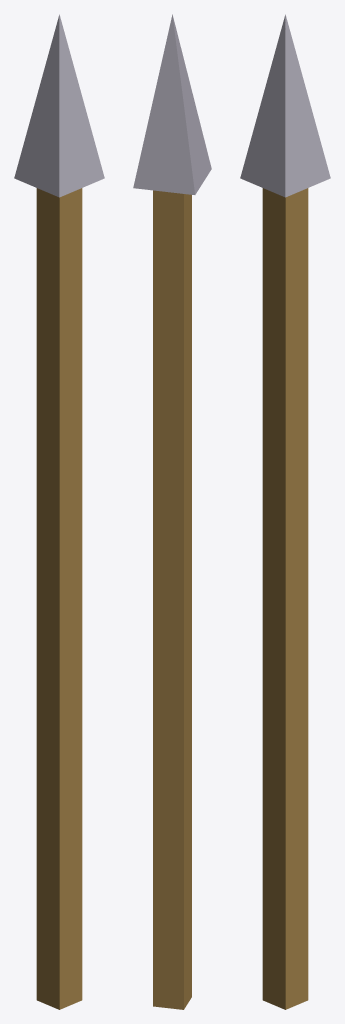
File: stone_arrow.dae
3 views of the same model, side by side, from view 1: azimuth 90°, elevation 25°; view 2: azimuth 210°, elevation 25°; view 3: azimuth 270°, elevation 25° (orthographic).
Visible parts, largest first — view 1: Cylinder, Cone; view 2: Cylinder, Cone; view 3: Cylinder, Cone.
Part boxes in pixels (<box>): Cylinder: <box>36,188,82,1009</box>; Cone: <box>14,14,104,197</box>; Cylinder: <box>153,190,191,1009</box>; Cone: <box>133,14,211,194</box>; Cylinder: <box>262,188,308,1009</box>; Cone: <box>240,14,330,197</box>.
Bounding box in the file's own units: 8 × 8 × 96.
